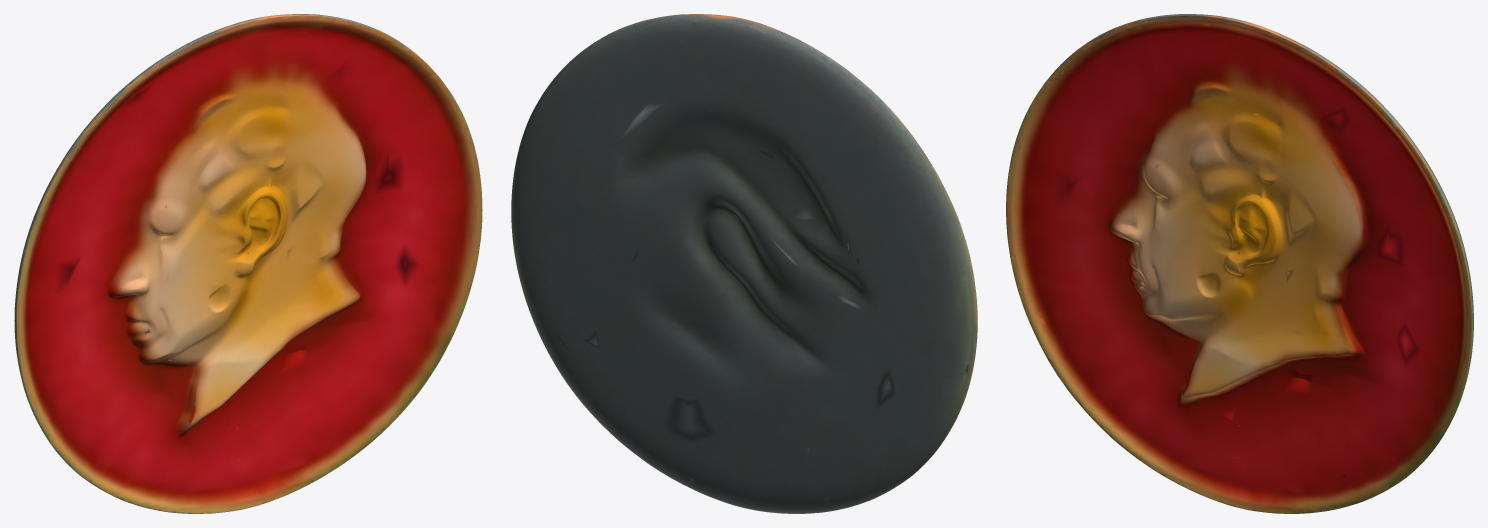
The picture shows the model from 3 angles, left to right: view 1: azimuth 30°, elevation 25°; view 2: azimuth 150°, elevation 25°; view 3: azimuth 330°, elevation 25°; orthographic projection.
Visible parts, largest first — view 1: node_0; view 2: node_0; view 3: node_0.
Boxes of the visible parts, bbox=[...] form: node_0: bbox=[14, 14, 482, 513]; node_0: bbox=[511, 14, 977, 513]; node_0: bbox=[1006, 14, 1473, 513].
Bounding box in the file's own units: 1.19 × 1.19 × 0.0675.
Materials: 1 (1 with a texture image).
